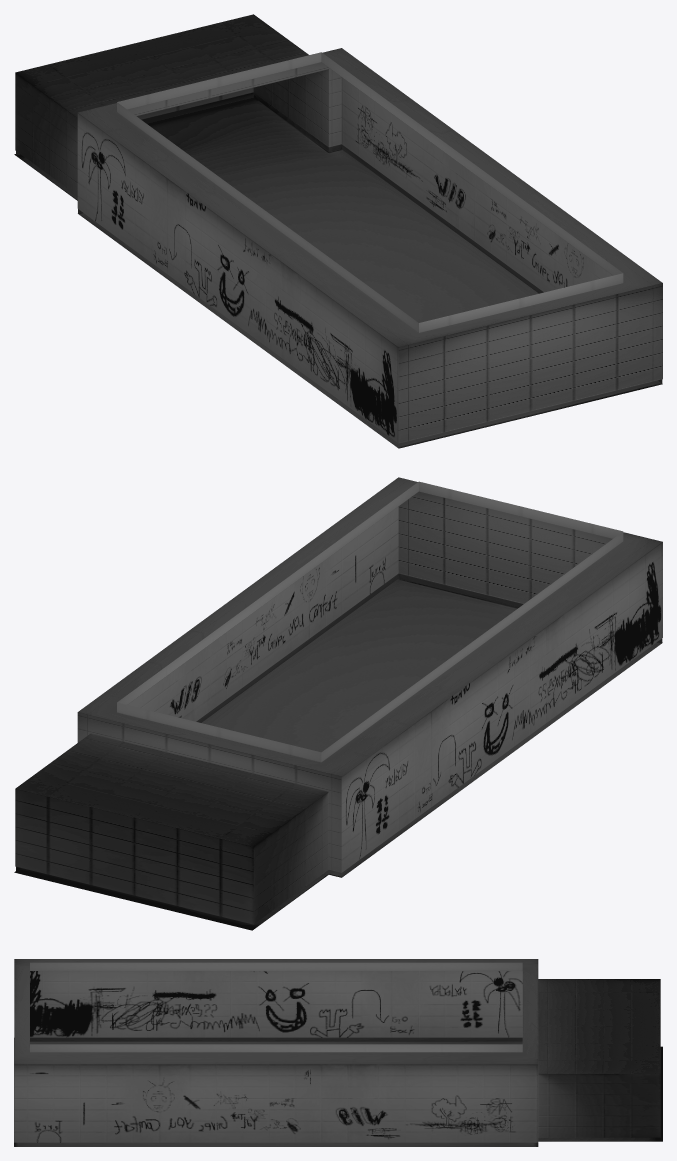
The model's file is ydl-lounge.glb.
3 views of the same model, one above another, from view 1: azimuth 30°, elevation 25°; view 2: azimuth 150°, elevation 25°; view 3: azimuth 270°, elevation 25° (orthographic). The views are drawn at different scales.
Visible parts, largest first — view 1: Cube_0; view 2: Cube_0; view 3: Cube_0.
Part boxes in pixels (x1,y1,x2,y2): Cube_0: (14, 14, 662, 448); Cube_0: (14, 477, 662, 930); Cube_0: (14, 959, 662, 1146).
Bounding box in the file's own units: 11.49 × 4.62 × 29.95.
3 materials, 3 textured.
